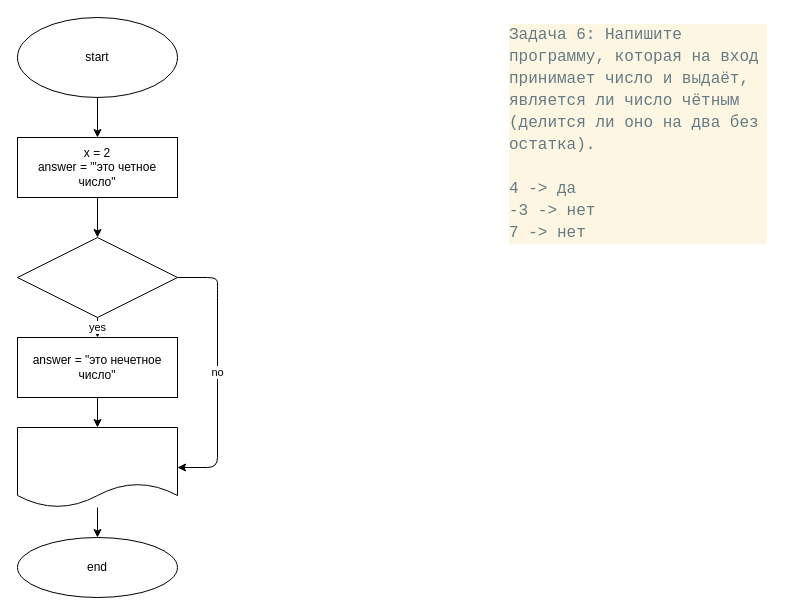
This 785x615 diagram has some shape labels left out. The shapes that lost their labels are listed below. From the top down, each one's centre as x and y in pixels, then its label:
pixel 97 277: if x%2 >0
pixel 97 467: answer
